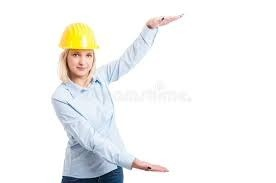helmet: (58, 22, 103, 51)
person with partial safety: (48, 20, 123, 183)
